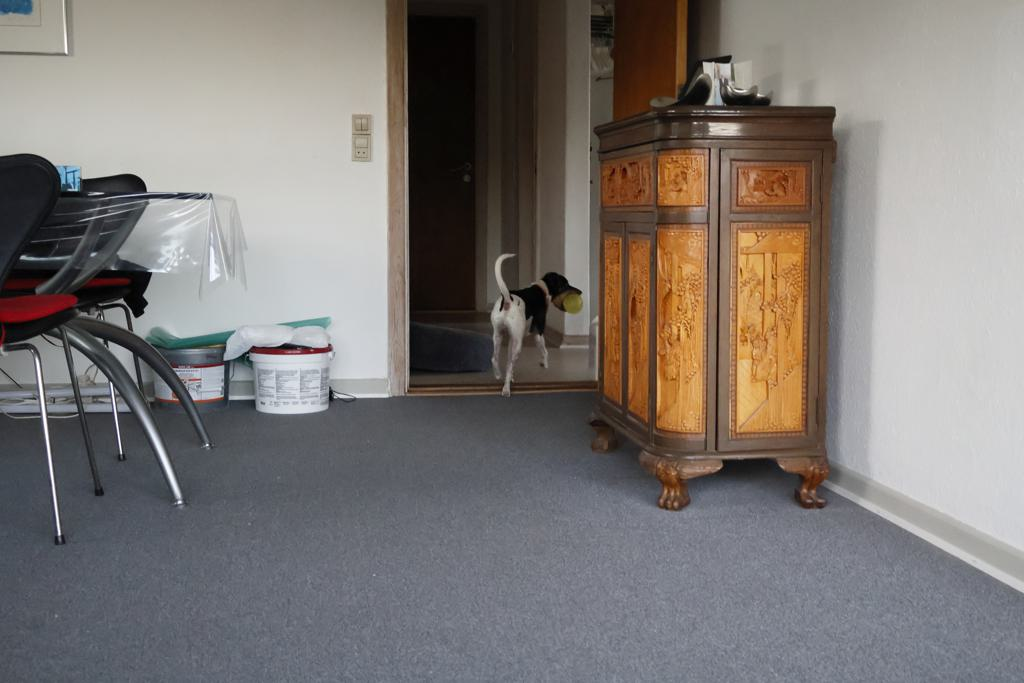Dog: (485, 250, 585, 403)
